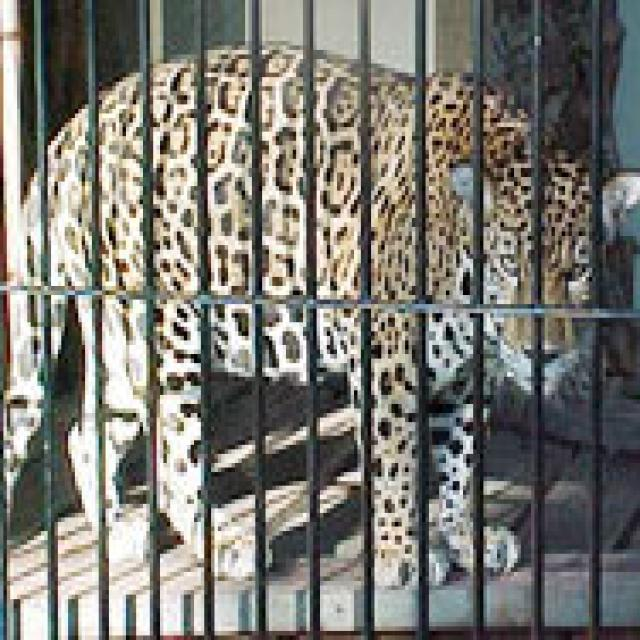Leopard: (0, 41, 633, 631)
